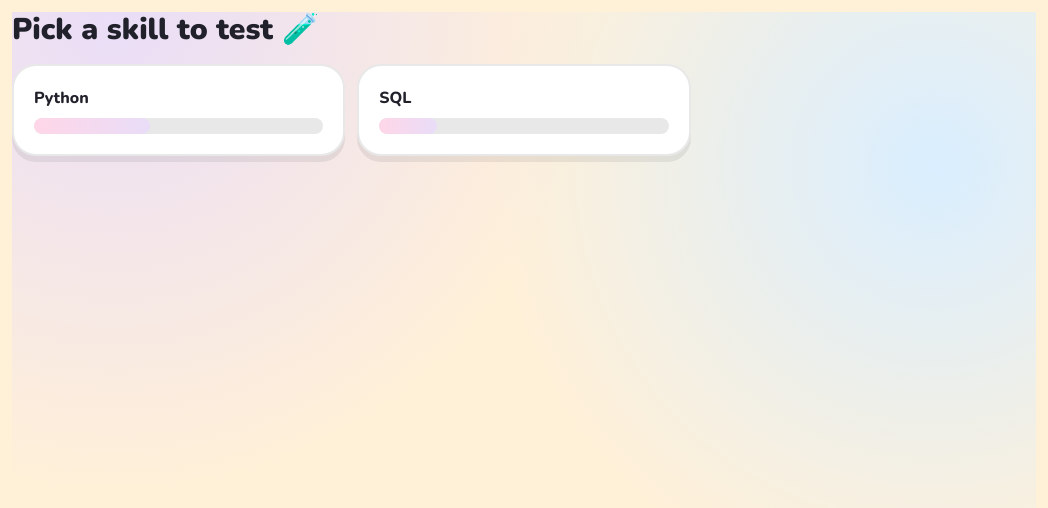
Scenario: Assess (quiz workflow) › tells the learner when a failed quiz added a review quest
Click the button "SQL" at (524, 110), box [357,64,691,156]
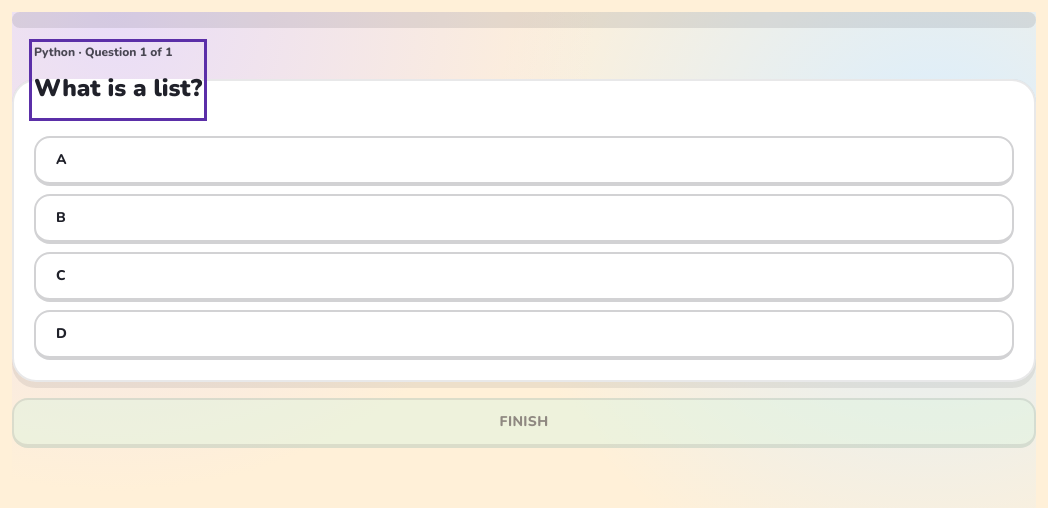
Click the radio button labelled "A" at (61, 160), box [34,136,1014,186]
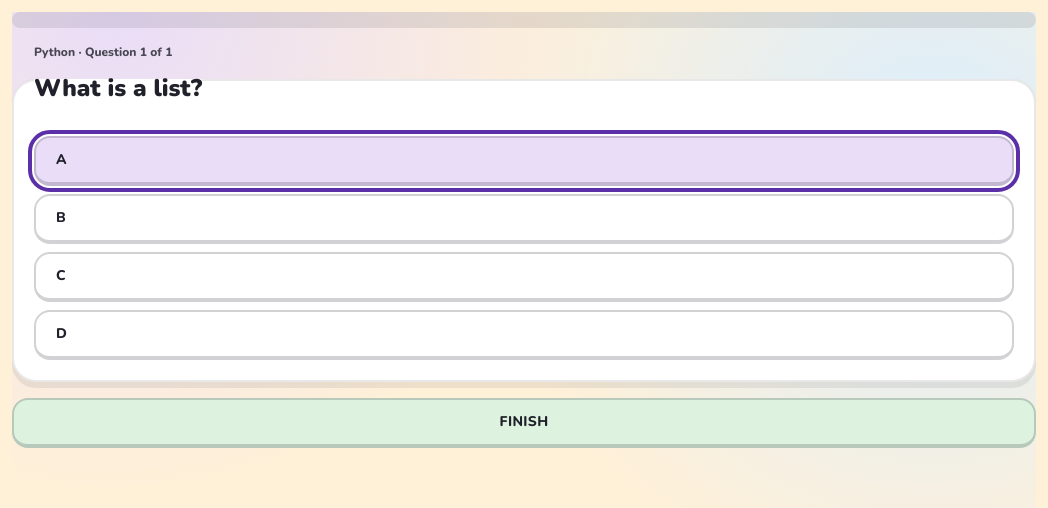
Click the button "Finish" at (524, 423), box [12,398,1036,448]
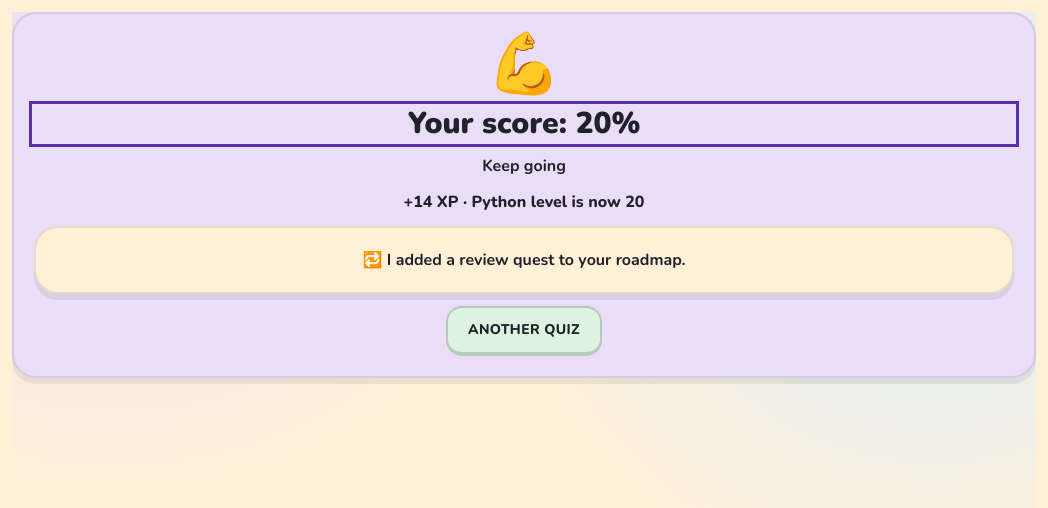
Check: the text "🔁 I added a review quest to your roadmap." is shown, box [34,226,1014,294]
